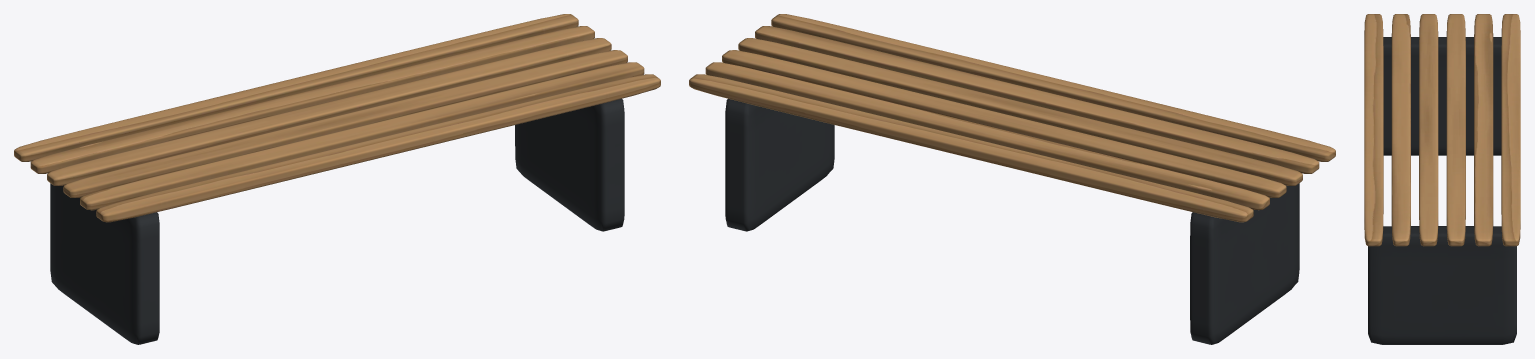
The model's file is steel-modern.glb.
3 renders of one model, left to right at view 1: azimuth 30°, elevation 25°; view 2: azimuth 150°, elevation 25°; view 3: azimuth 270°, elevation 25°, orthographic. The views are drawn at different scales.
Visible parts, largest first — view 1: wood_h, paint_primary; view 2: wood_h, paint_primary; view 3: wood_h, paint_primary.
Boxes of the visible parts, bbox=[...] form: wood_h: bbox=[14, 14, 660, 222]; paint_primary: bbox=[50, 98, 624, 344]; wood_h: bbox=[689, 14, 1335, 222]; paint_primary: bbox=[725, 98, 1299, 344]; wood_h: bbox=[1364, 14, 1520, 246]; paint_primary: bbox=[1368, 37, 1516, 344].
Bounding box in the file's own units: 1.8 × 0.446 × 0.525.
Materials: 2 (2 with a texture image).
